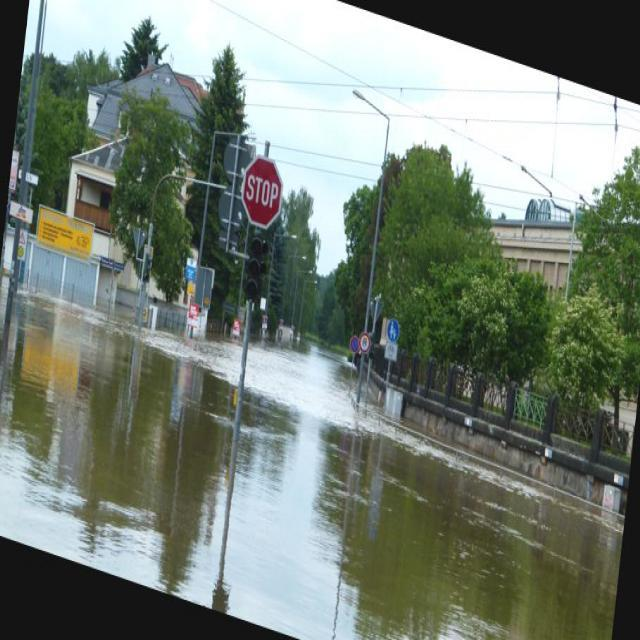flood: (0, 284, 627, 639)
